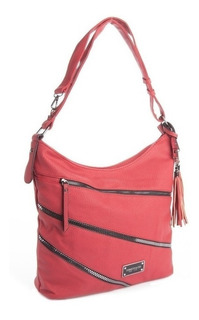cartera: (23, 16, 187, 301)
